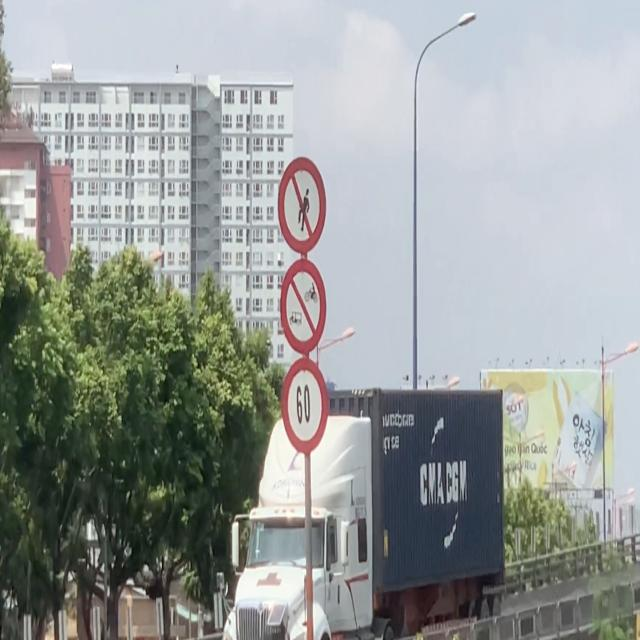Cam con lai: (278, 155, 327, 255), (279, 256, 326, 358)
Toc do toi da: (282, 356, 329, 456)
